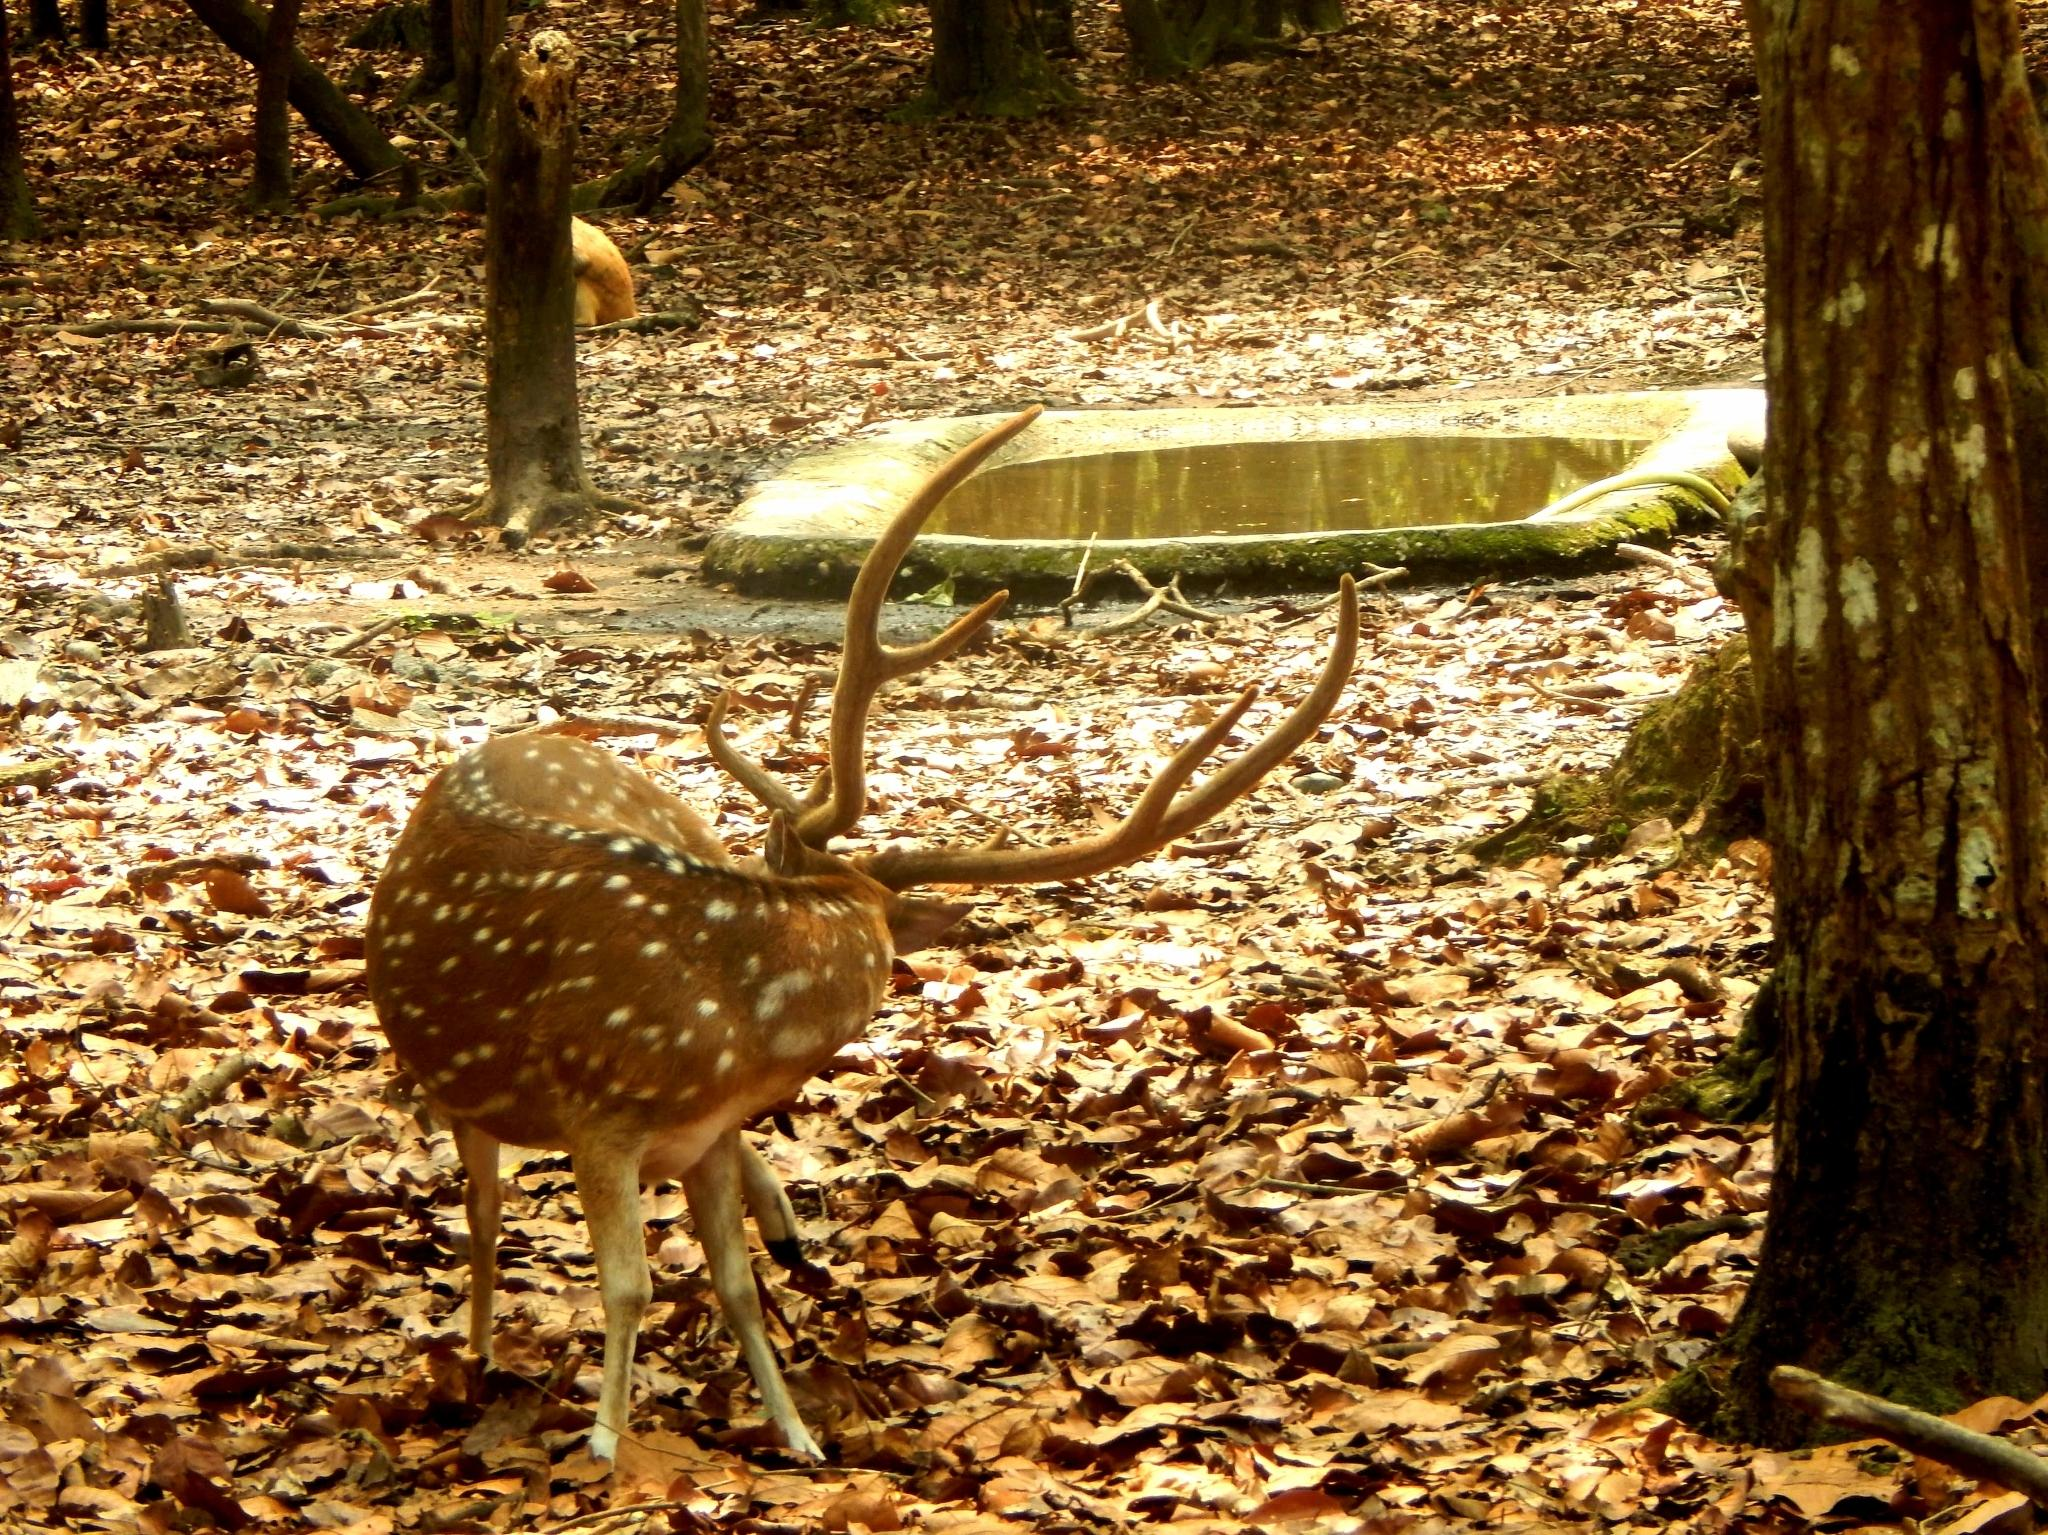Deer: (366, 410, 1356, 1458)
